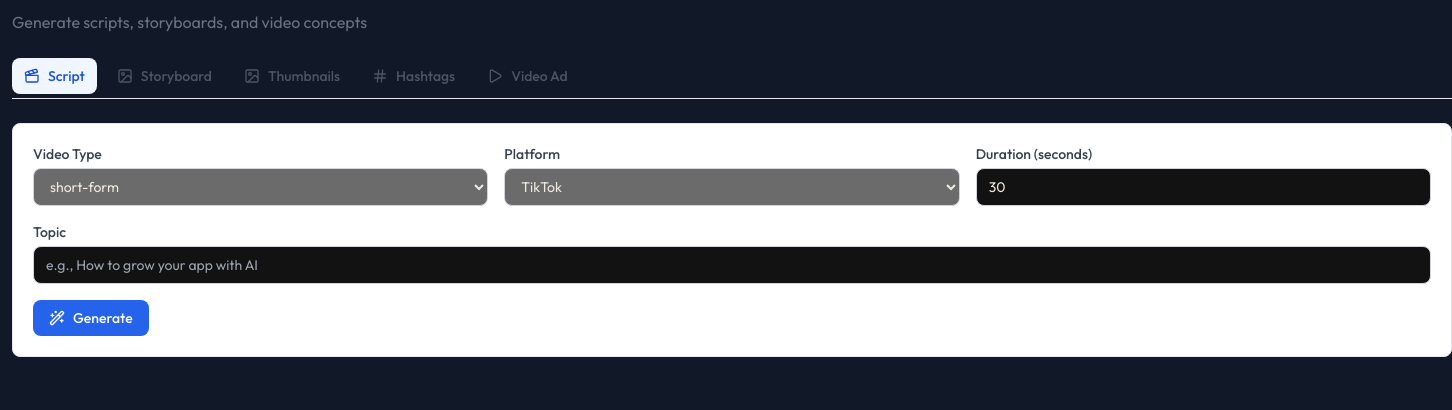
Test: visible studio failures › video fallback output is an error, not a generated result
In the field with placeholder "e.g., How to grow your app with AI": [732, 265] box [33, 246, 1431, 284], type "Keep my video topic"
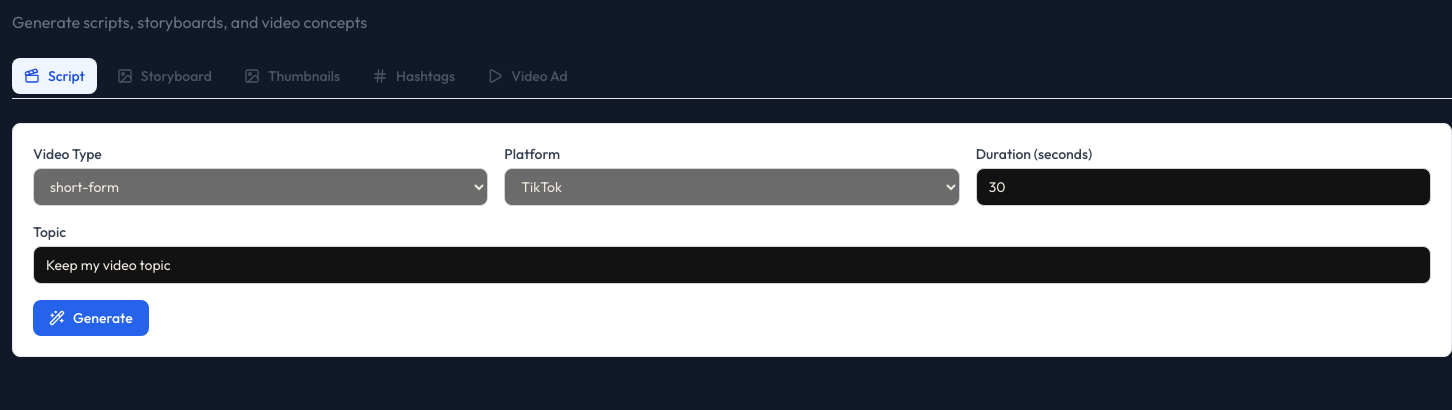
Click the button "Generate": [91, 318] box [33, 300, 149, 336]
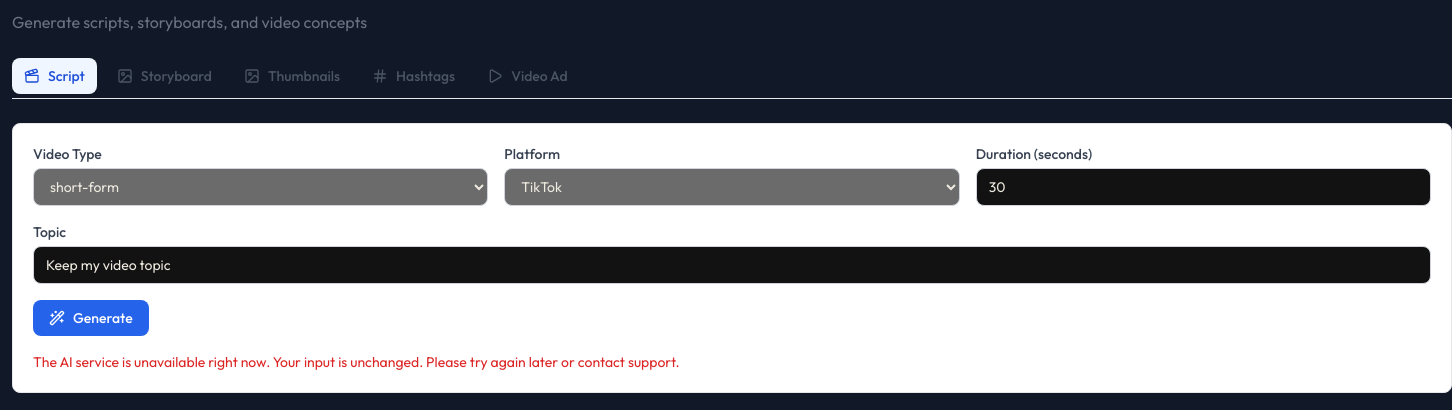
Now the message shows "unavailable", box [33, 353, 680, 371]
